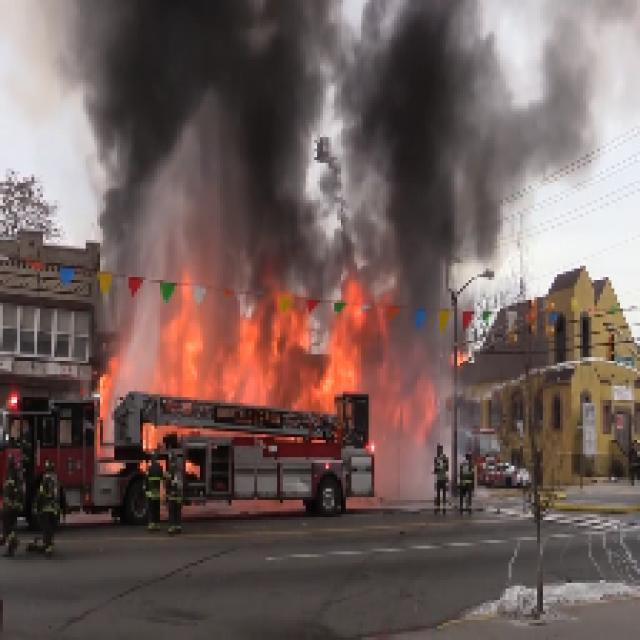Smoke: (99, 15, 285, 284), (384, 48, 465, 284)
